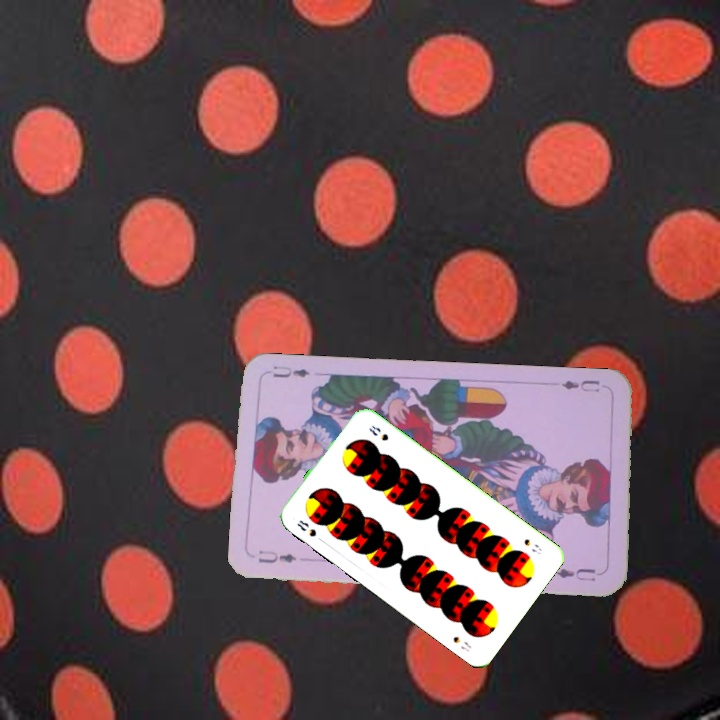EU: (254, 546, 299, 566), (558, 375, 602, 395)
S8: (293, 516, 319, 539), (520, 535, 545, 557)
